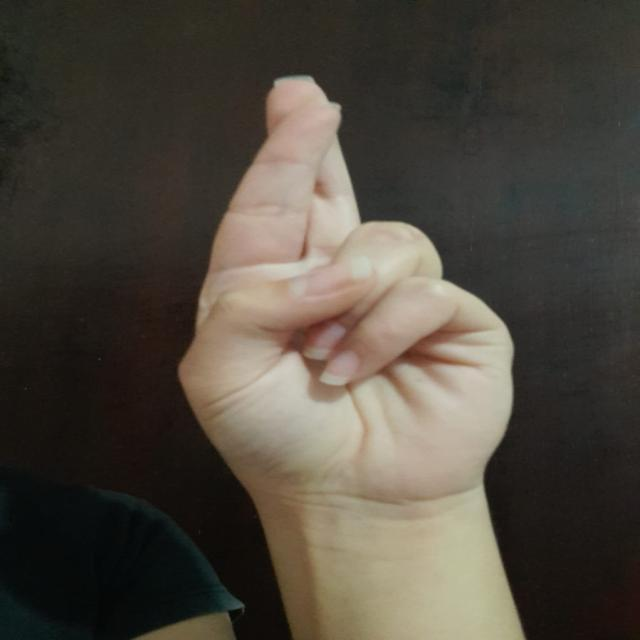R: (164, 66, 548, 506)
